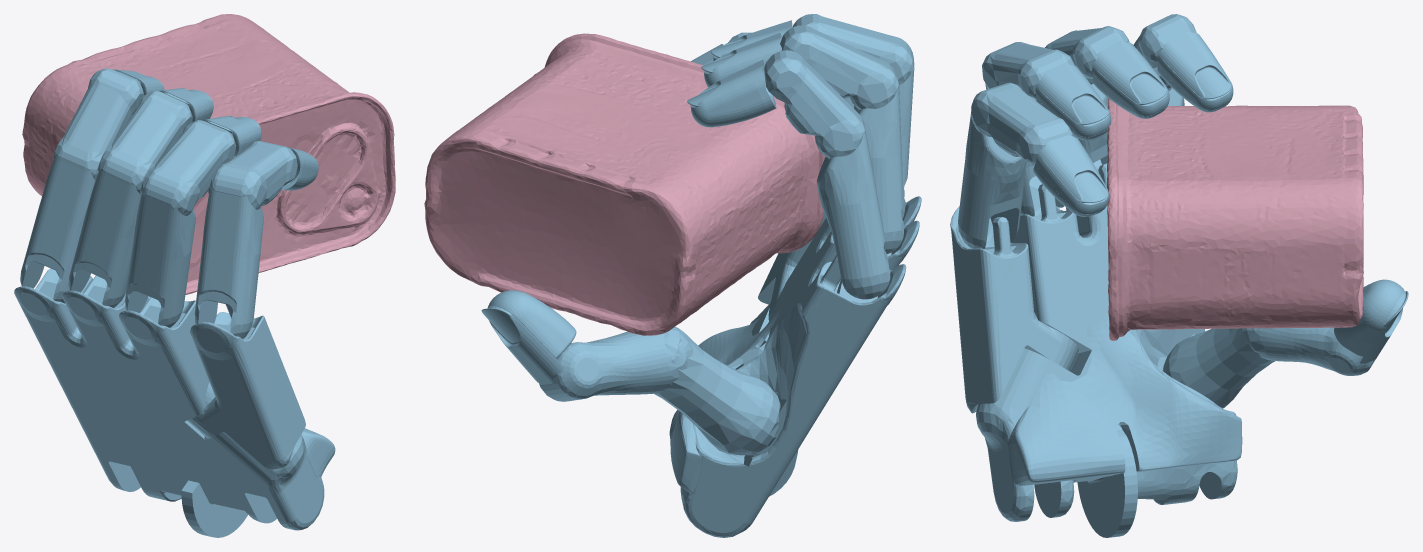
3 views of the same model, side by side, from view 1: azimuth 30°, elevation 25°; view 2: azimuth 150°, elevation 25°; view 3: azimuth 270°, elevation 25° (orthographic). The views are drawn at different scales.
Parts seen in each view (by area): view 1: world; view 2: world; view 3: world.
Boxes of the visible parts, left/top/right/bottom form: world: left=14, top=14, right=395, bottom=537; world: left=424, top=14, right=921, bottom=537; world: left=950, top=14, right=1408, bottom=537.
Size of the model in its own units: 0.1386 by 0.1705 by 0.149.
